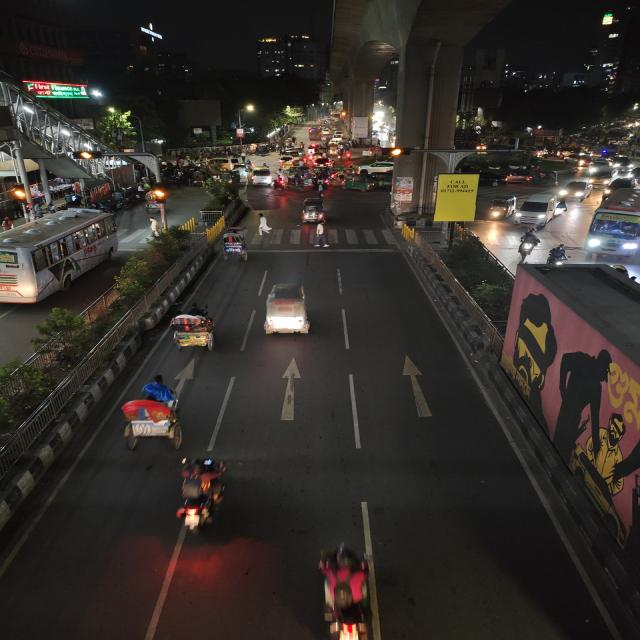bus: (0, 209, 119, 306), (584, 192, 640, 261), (428, 172, 485, 226)
car: (510, 194, 569, 228), (560, 180, 594, 202), (603, 178, 639, 195), (583, 172, 613, 190), (504, 167, 534, 184), (358, 160, 394, 174), (249, 166, 274, 186), (570, 154, 591, 168), (563, 152, 587, 164)
cng: (254, 281, 316, 339), (298, 196, 329, 225), (486, 195, 516, 223), (341, 174, 370, 193), (532, 170, 559, 187), (368, 172, 393, 190)
motorcycle: (307, 536, 387, 640), (171, 454, 232, 538), (513, 228, 542, 264), (542, 244, 572, 272), (272, 175, 286, 193)
pedestrian: (254, 210, 273, 240)
rickshaw: (111, 374, 196, 452), (164, 302, 224, 356), (217, 226, 251, 264), (289, 172, 315, 190)
